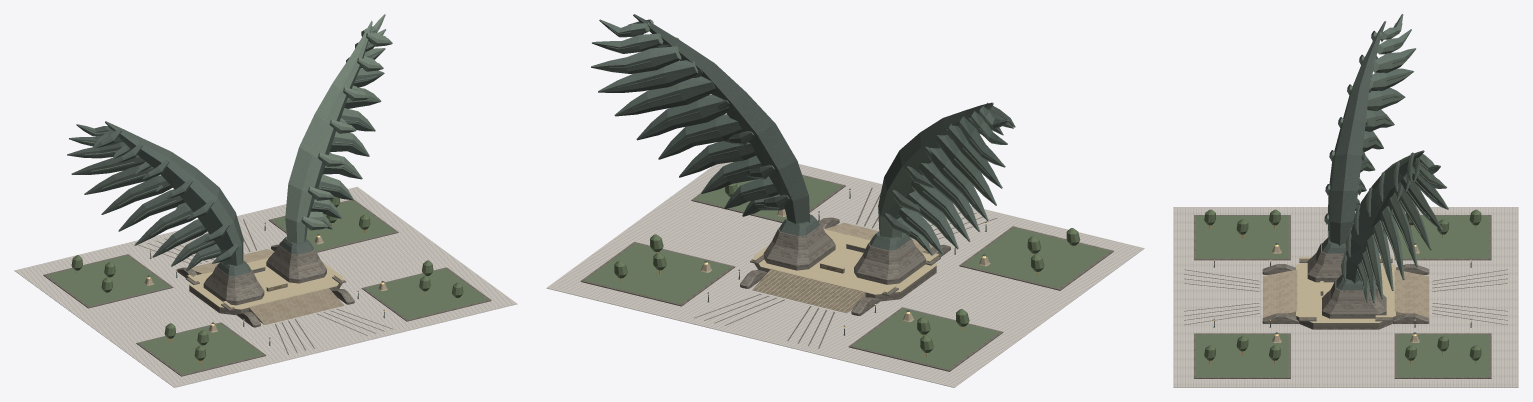
Rendered from the-eyrie.glb.
3 views of the same model, side by side, from view 1: azimuth 30°, elevation 25°; view 2: azimuth 150°, elevation 25°; view 3: azimuth 270°, elevation 25° (orthographic). The views are drawn at different scales.
Visible parts, largest first — view 1: terraces, bronze_wings; view 2: terraces, bronze_wings; view 3: terraces, bronze_wings.
Part boxes in pixels (bbox=[...]): terraces: bbox=[14, 186, 517, 387]; bronze_wings: bbox=[67, 14, 392, 276]; terraces: bbox=[546, 162, 1144, 387]; bronze_wings: bbox=[591, 14, 1015, 254]; terraces: bbox=[1173, 207, 1518, 387]; bronze_wings: bbox=[1322, 14, 1448, 303].
Size of the model in its own units: 198 by 113 by 160.
12 materials, 12 textured.
